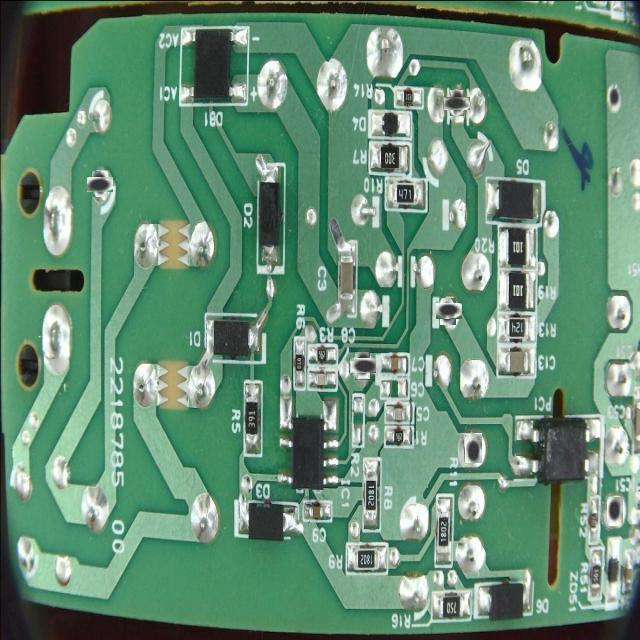damged: (464, 434, 482, 464), (607, 497, 623, 526), (352, 355, 373, 377), (89, 173, 111, 194), (438, 301, 459, 322), (447, 93, 467, 113), (607, 84, 619, 108)
